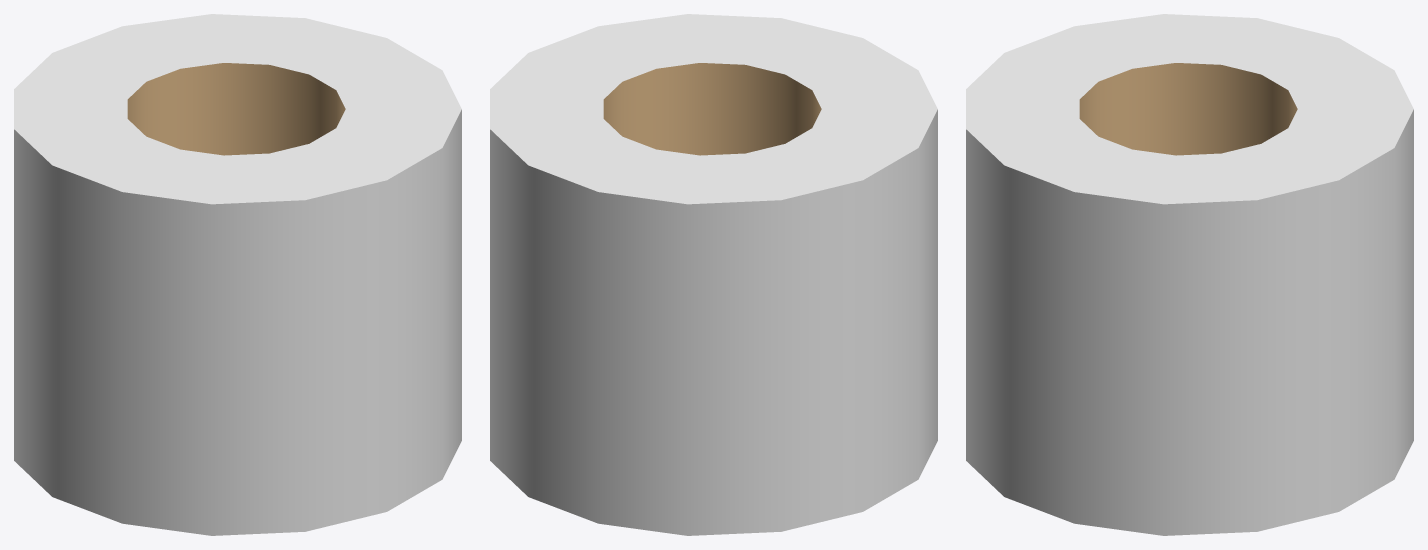
The model's file is RolloPapel.FBX.
The picture shows the model from 3 angles, left to right: view 1: azimuth 30°, elevation 25°; view 2: azimuth 150°, elevation 25°; view 3: azimuth 270°, elevation 25°; orthographic projection.
Visible parts, largest first — view 1: Tube001; view 2: Tube001; view 3: Tube001.
Boxes of the visible parts, box(x1,y1,x2,y2) form: Tube001: box(14, 14, 461, 535); Tube001: box(490, 14, 937, 535); Tube001: box(966, 14, 1413, 535).
Bounding box in the file's own units: 111 × 90.36 × 111.
Materials: 1 (1 with a texture image).
